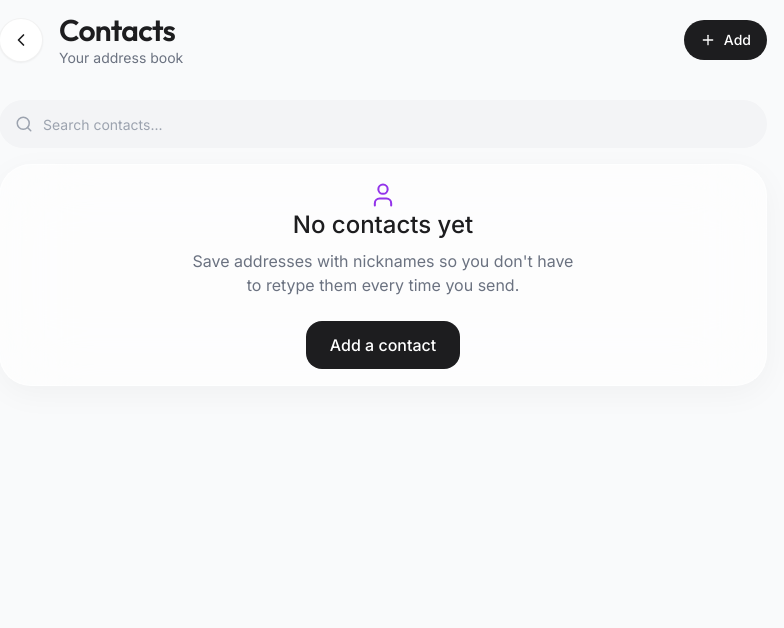
Contacts — page chrome (§15.x) › clicking 'Add' button toggles the form open
The width and height of the screenshot is (784, 628).
Click the button with aria-label "Add contact". click: (725, 40)
box: top-left (684, 20), bottom-right (767, 60)
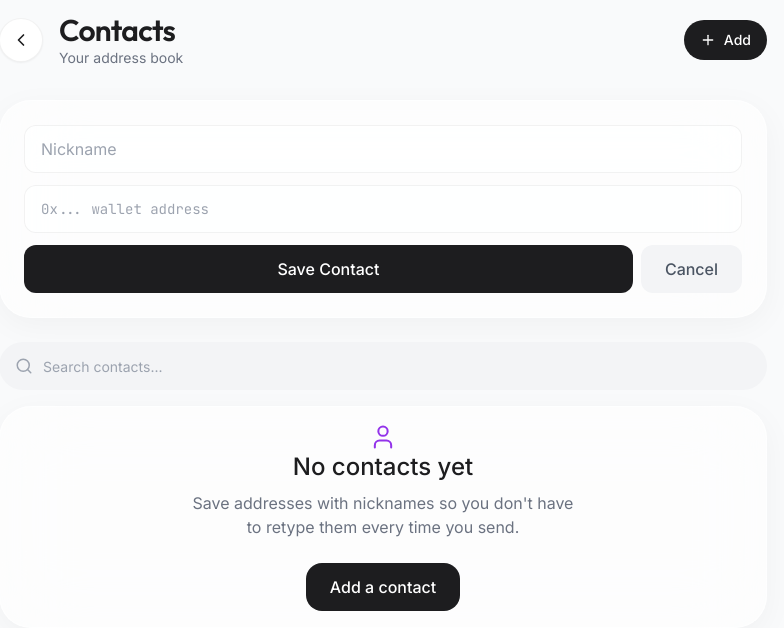
Result: the field with placeholder "Nickname" is shown at top-left (24, 125), bottom-right (742, 173)
